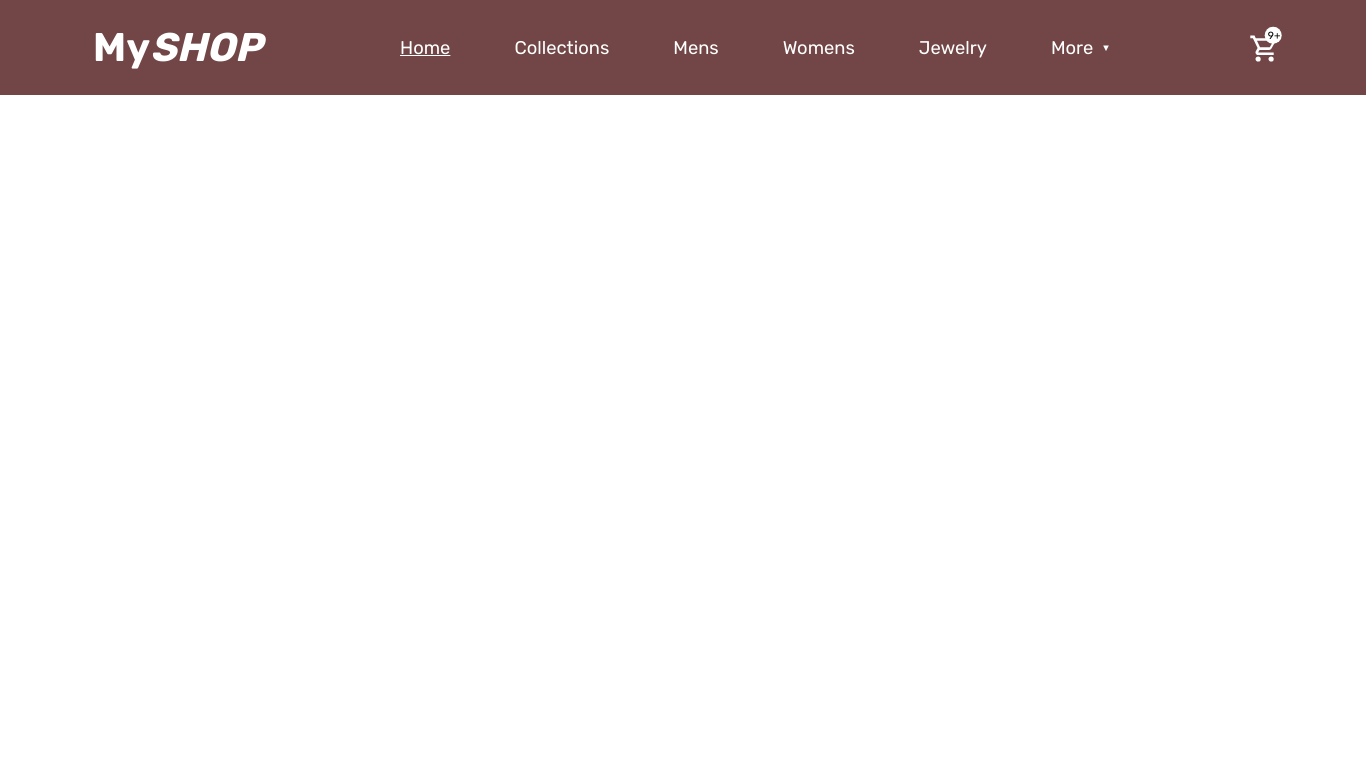
Test case: side-cart › checkout button brings to checkout and closes side cart
This screenshot has width=1366, height=768.
Click the icon with test id "cart-icon": x=1264, y=49 [1249,33,1280,64]
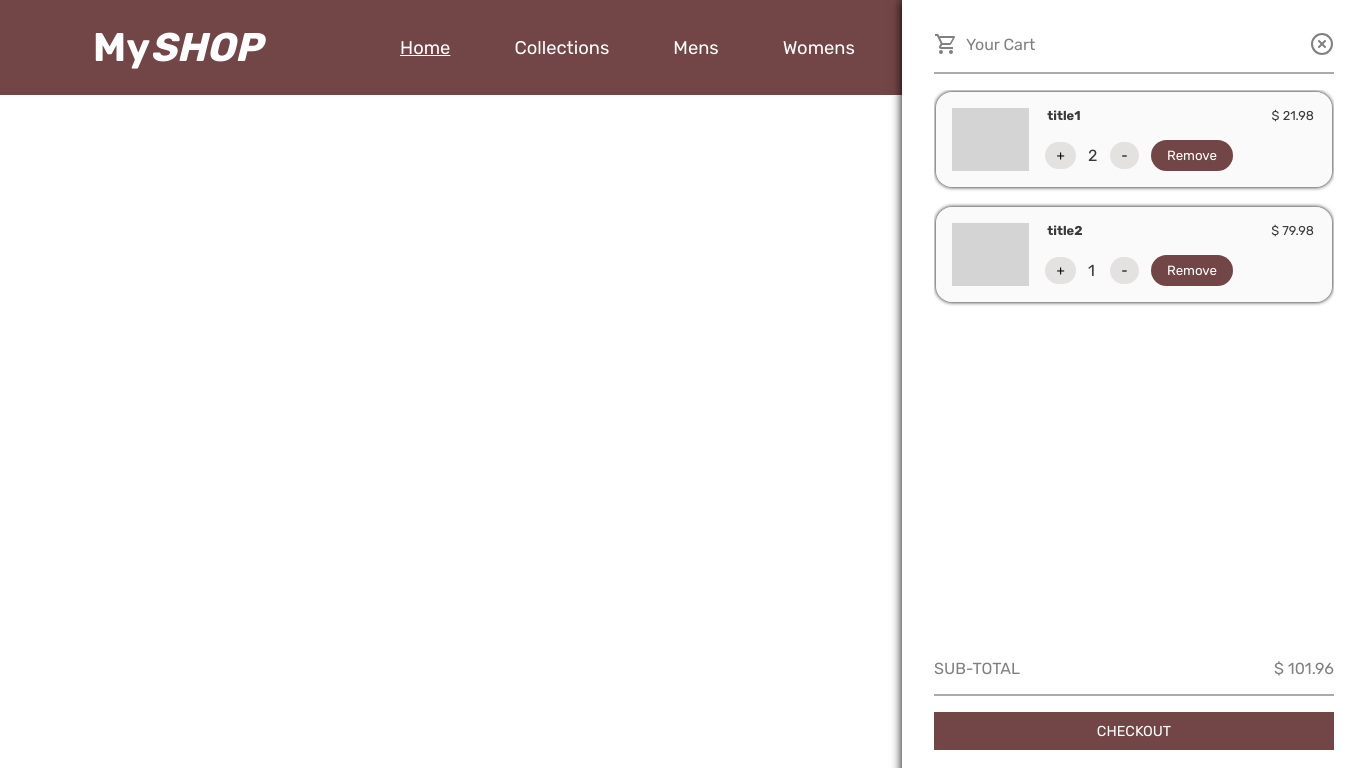
Check: the button "CHECKOUT" is shown
Click the button "CHECKOUT": x=1134, y=731 [934,712,1334,750]
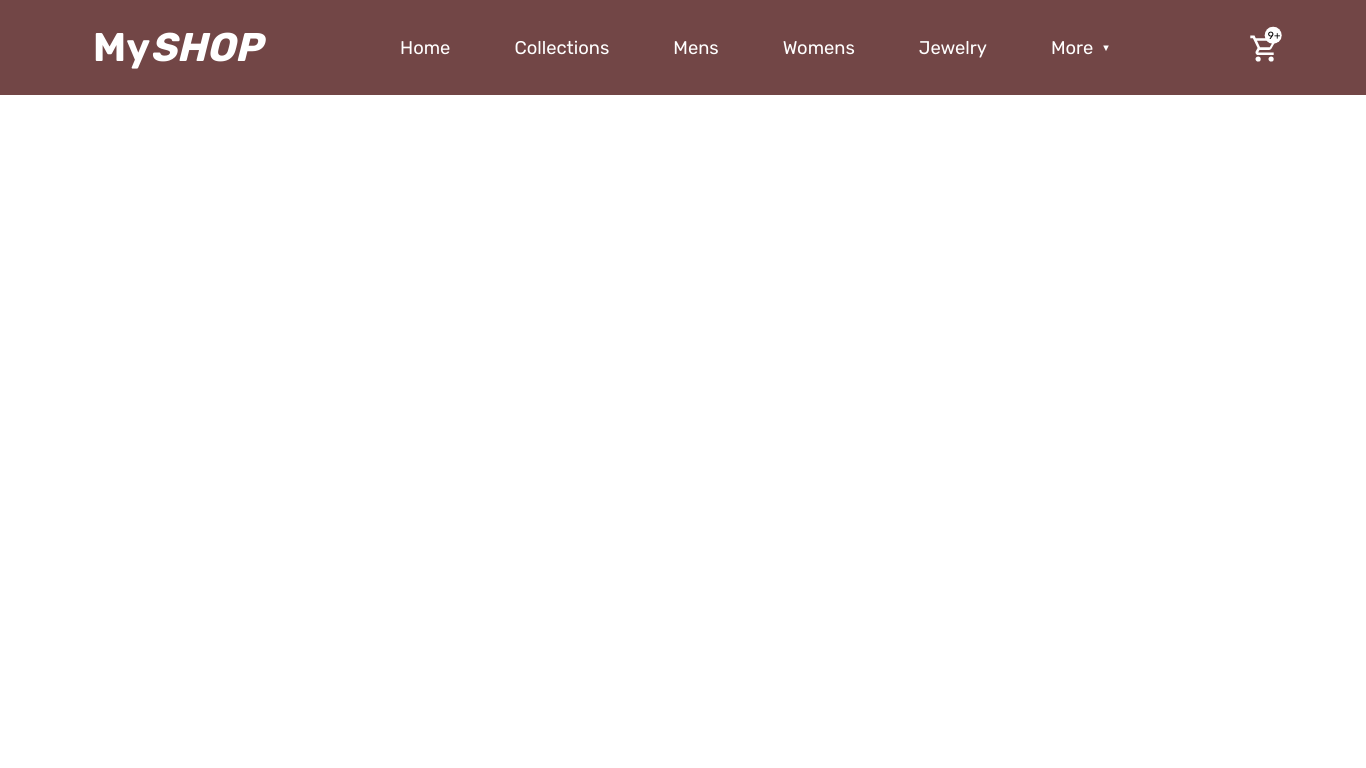
Check: the button "CHECKOUT" is gone
